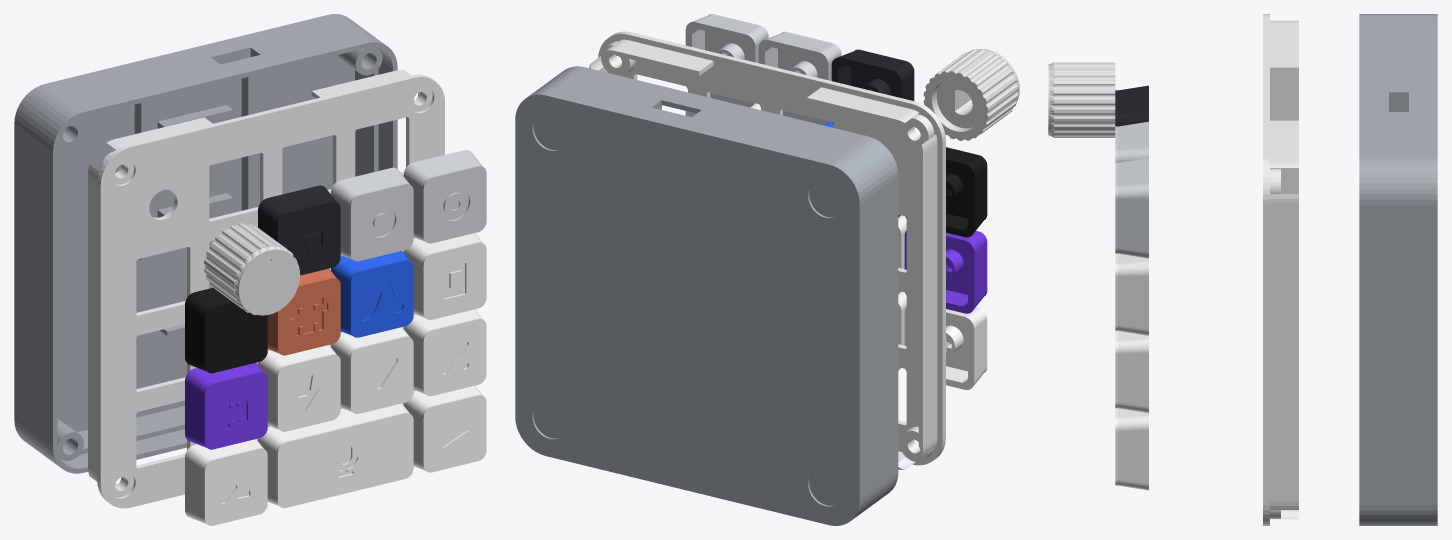
File: orchestrator-pad-exploded.glb
3 views of the same model, side by side, from view 1: azimuth 30°, elevation 25°; view 2: azimuth 150°, elevation 25°; view 3: azimuth 270°, elevation 25° (orthographic).
Parts seen in each view (by area): view 1: tray, plate, voice, knob, prompt, kiro, preset2, preset3, reject, opencode, approve, run (+5 smaller); view 2: tray, plate, knob, codex, kiro, prompt, preset3, preset2, cursor; view 3: tray, plate, knob, preset3, opencode, reject, send, cursor, preset2.
Boxes of the visible parts, x1,y1,x2,y2 form: tray: [14, 14, 397, 473]; plate: [88, 70, 444, 508]; voice: [258, 403, 413, 508]; knob: [204, 223, 300, 315]; prompt: [185, 439, 267, 525]; kiro: [185, 363, 267, 449]; preset2: [331, 167, 413, 261]; preset3: [403, 150, 486, 243]; reject: [403, 309, 486, 396]; opencode: [403, 233, 486, 319]; approve: [331, 327, 413, 413]; run: [258, 345, 340, 431]; tray: [515, 66, 898, 525]; plate: [589, 31, 945, 469]; knob: [923, 49, 1019, 140]; codex: [905, 147, 987, 237]; kiro: [904, 230, 987, 313]; prompt: [904, 307, 987, 389]; preset3: [685, 14, 768, 107]; preset2: [758, 31, 841, 125]; cursor: [831, 49, 914, 124]; tray: [1359, 14, 1437, 525]; plate: [1263, 14, 1298, 525]; knob: [1048, 62, 1115, 137]; preset3: [1115, 157, 1148, 258]; opencode: [1115, 253, 1148, 335]; reject: [1115, 331, 1148, 412]; send: [1115, 408, 1148, 490]; cursor: [1115, 85, 1148, 126]; preset2: [1115, 121, 1148, 162].
Bounding box in the file's own units: 90 × 90 × 87.
